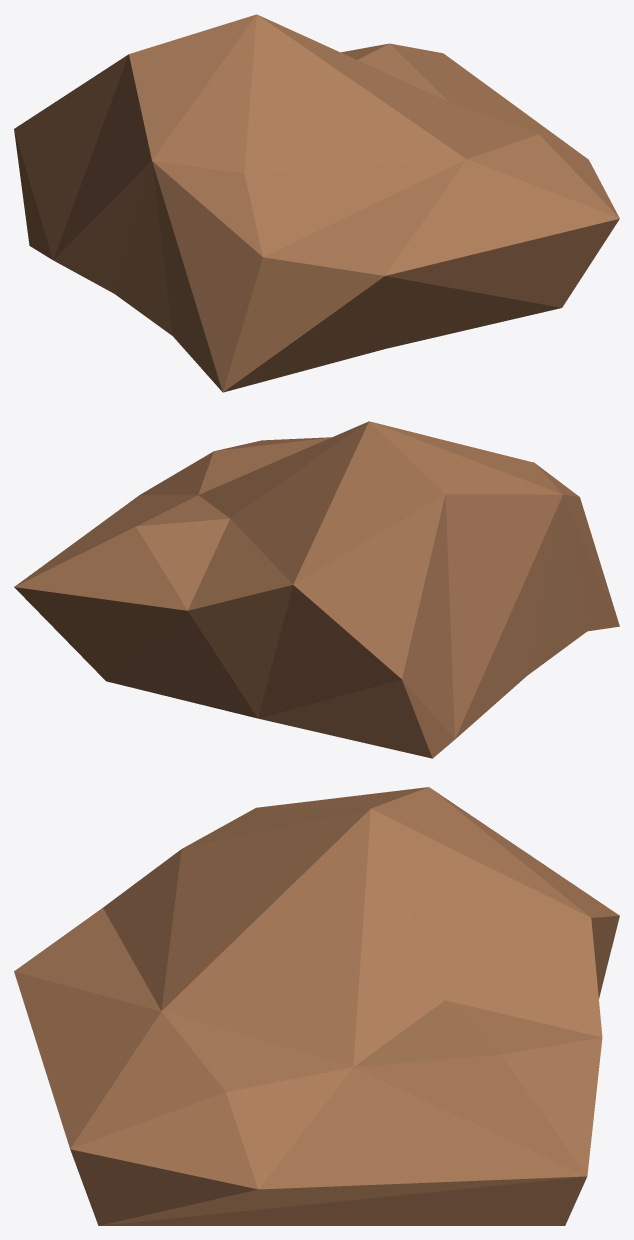
The model's file is mountain.fbx.
3 views of the same model, one above another, from view 1: azimuth 30°, elevation 25°; view 2: azimuth 150°, elevation 25°; view 3: azimuth 270°, elevation 25° (orthographic). The views are drawn at different scales.
Visible parts, largest first — view 1: mountain.001; view 2: mountain.001; view 3: mountain.001.
Boxes of the visible parts, box(x1,y1,x2,y2) form: mountain.001: box(14, 14, 619, 392); mountain.001: box(14, 421, 619, 758); mountain.001: box(14, 787, 619, 1225).
Bounding box in the file's own units: 3277 × 1848 × 3277.
